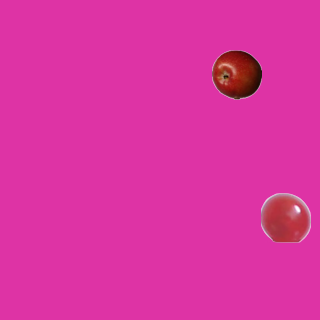Apple Braeburn: (211, 49, 261, 99)
Redcurrant: (260, 192, 310, 242)
